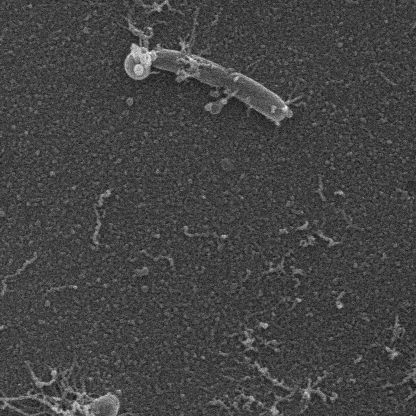cell2cell: (0, 392, 78, 409)
cell2surface: (316, 0, 355, 3)
regular: (139, 49, 223, 90), (225, 73, 288, 126)
